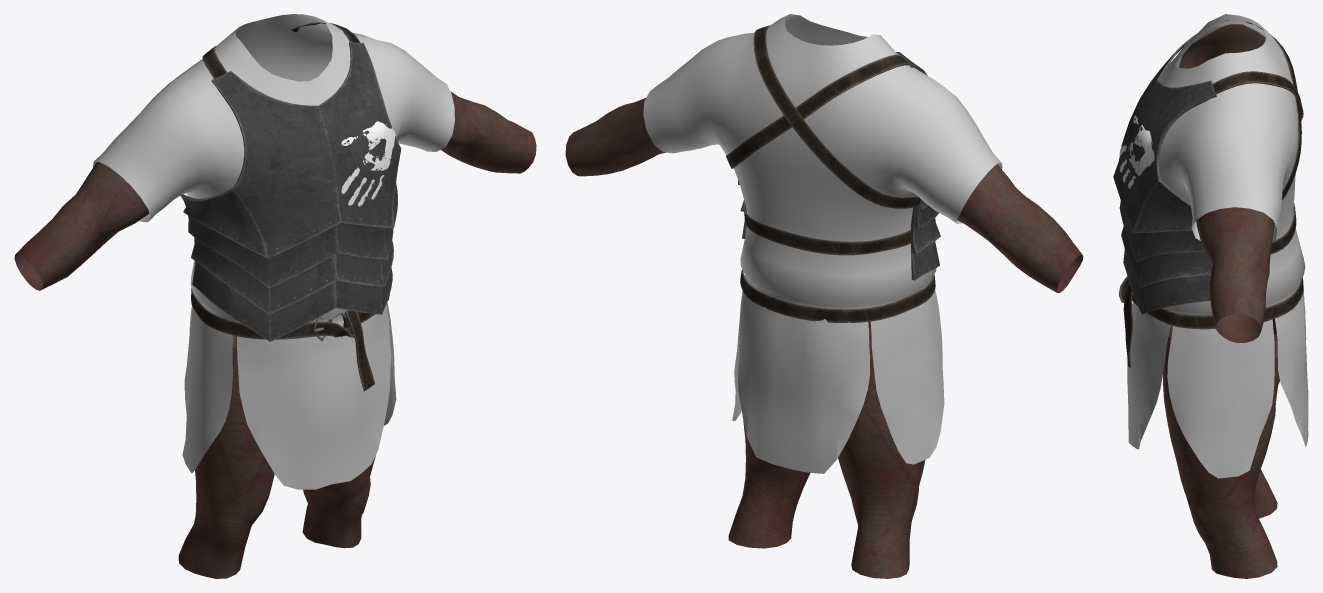
The model's file is sk_uruk_hai_plate_med_a2.fbx.
3 views of the same model, side by side, from view 1: azimuth 30°, elevation 25°; view 2: azimuth 150°, elevation 25°; view 3: azimuth 270°, elevation 25° (orthographic). The views are drawn at different scales.
Visible parts, largest first — view 1: sk_uruk_hai_plate_med_a2.0, sk_uruk_hai_plate_med_a2.2, sk_uruk_hai_plate_med_a2.body.0, sk_uruk_hai_plate_med_a2.body.1, sk_uruk_hai_plate_med_a2.1, sk_uruk_hai_plate_med_a2.3; view 2: sk_uruk_hai_plate_med_a2.0, sk_uruk_hai_plate_med_a2.body.0, sk_uruk_hai_plate_med_a2.body.1, sk_uruk_hai_plate_med_a2.1, sk_uruk_hai_plate_med_a2.2; view 3: sk_uruk_hai_plate_med_a2.0, sk_uruk_hai_plate_med_a2.2, sk_uruk_hai_plate_med_a2.body.0, sk_uruk_hai_plate_med_a2.body.1, sk_uruk_hai_plate_med_a2.1, sk_uruk_hai_plate_med_a2.3.
Boxes of the visible parts, box(x1,y1,x2,y2) form: sk_uruk_hai_plate_med_a2.0: box(93, 14, 454, 489); sk_uruk_hai_plate_med_a2.2: box(180, 42, 401, 341); sk_uruk_hai_plate_med_a2.body.0: box(178, 335, 376, 578); sk_uruk_hai_plate_med_a2.body.1: box(14, 91, 536, 290); sk_uruk_hai_plate_med_a2.1: box(184, 22, 389, 391); sk_uruk_hai_plate_med_a2.3: box(341, 121, 395, 206); sk_uruk_hai_plate_med_a2.0: box(643, 14, 1002, 473); sk_uruk_hai_plate_med_a2.body.0: box(728, 321, 925, 578); sk_uruk_hai_plate_med_a2.body.1: box(565, 97, 1083, 292); sk_uruk_hai_plate_med_a2.1: box(726, 25, 935, 322); sk_uruk_hai_plate_med_a2.2: box(738, 52, 940, 280); sk_uruk_hai_plate_med_a2.0: box(1127, 14, 1308, 478); sk_uruk_hai_plate_med_a2.2: box(1113, 34, 1216, 314); sk_uruk_hai_plate_med_a2.body.0: box(1163, 318, 1279, 578); sk_uruk_hai_plate_med_a2.body.1: box(1179, 24, 1274, 343); sk_uruk_hai_plate_med_a2.1: box(1119, 20, 1303, 367); sk_uruk_hai_plate_med_a2.3: box(1119, 115, 1154, 188).
Size of the model in its own units: 1.2 by 0.4178 by 1.19.
